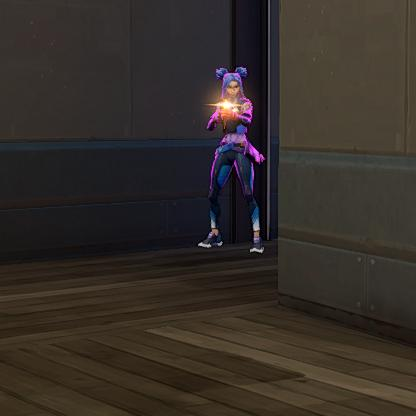enemyBody: (225, 103, 245, 138)
enemyHead: (226, 76, 241, 98)
